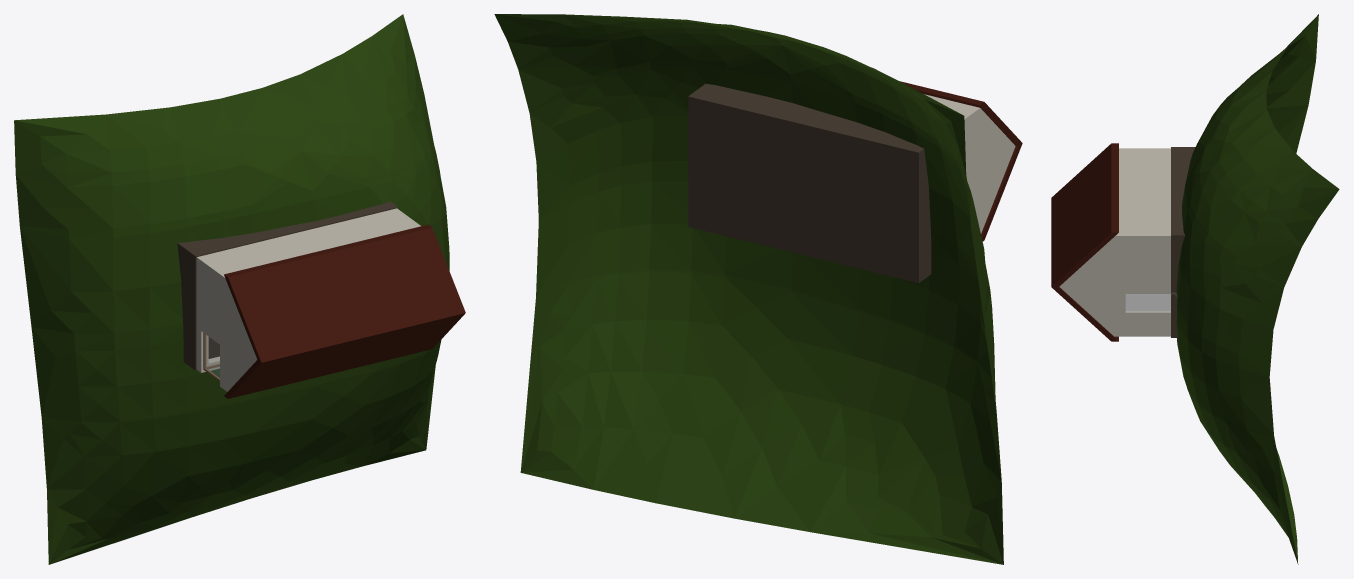
File: output2x3_guids.obj
The picture shows the model from 3 angles, left to right: view 1: azimuth 30°, elevation 25°; view 2: azimuth 150°, elevation 25°; view 3: azimuth 270°, elevation 25°; orthographic projection. The views are drawn at different scales.
Visible parts, largest first — view 1: 0GNruBn012euT0V4j1zNbY, 0ZIj0vhLbDIBzLVO1s0S3q, 1OkhcYSJv5nB5Ye2gD90ix, 2dSmIsY2j10OJaUd5RmL3e, 15HQrV8WX2nud_EOSSfoGz, 0WILkkrrn0ivmOkgqqAb$R; view 2: 0GNruBn012euT0V4j1zNbY, 0WILkkrrn0ivmOkgqqAb$R, 15HQrV8WX2nud_EOSSfoGz, 0ZIj0vhLbDIBzLVO1s0S3q; view 3: 0GNruBn012euT0V4j1zNbY, 2XjjioqkD00gotrGmqpPnw, 0ZIj0vhLbDIBzLVO1s0S3q, 2dSmIsY2j10OJaUd5RmL3e, 0WILkkrrn0ivmOkgqqAb$R, 24WV2H7cb3MgDzwgWj1b8X, 1OkhcYSJv5nB5Ye2gD90ix, 38MvAlC2H7RhTum1r0FJFg.
Part boxes in pixels (bbox=[...]): 0GNruBn012euT0V4j1zNbY: bbox=[14, 14, 449, 564]; 0ZIj0vhLbDIBzLVO1s0S3q: bbox=[224, 224, 465, 362]; 1OkhcYSJv5nB5Ye2gD90ix: bbox=[224, 313, 465, 398]; 2dSmIsY2j10OJaUd5RmL3e: bbox=[196, 208, 420, 288]; 15HQrV8WX2nud_EOSSfoGz: bbox=[196, 261, 257, 387]; 0WILkkrrn0ivmOkgqqAb$R: bbox=[177, 201, 397, 370]; 0GNruBn012euT0V4j1zNbY: bbox=[494, 14, 1003, 564]; 0WILkkrrn0ivmOkgqqAb$R: bbox=[688, 83, 931, 282]; 15HQrV8WX2nud_EOSSfoGz: bbox=[964, 111, 1015, 229]; 0ZIj0vhLbDIBzLVO1s0S3q: bbox=[900, 81, 1022, 146]; 0GNruBn012euT0V4j1zNbY: bbox=[1176, 14, 1339, 564]; 2XjjioqkD00gotrGmqpPnw: bbox=[1059, 239, 1170, 333]; 0ZIj0vhLbDIBzLVO1s0S3q: bbox=[1051, 143, 1118, 287]; 2dSmIsY2j10OJaUd5RmL3e: bbox=[1109, 148, 1170, 242]; 0WILkkrrn0ivmOkgqqAb$R: bbox=[1171, 147, 1195, 337]; 24WV2H7cb3MgDzwgWj1b8X: bbox=[1125, 294, 1170, 311]; 1OkhcYSJv5nB5Ye2gD90ix: bbox=[1052, 287, 1118, 341]; 38MvAlC2H7RhTum1r0FJFg: bbox=[1109, 330, 1170, 336].
Size of the model in its own units: 20 by 20 by 13.91.
